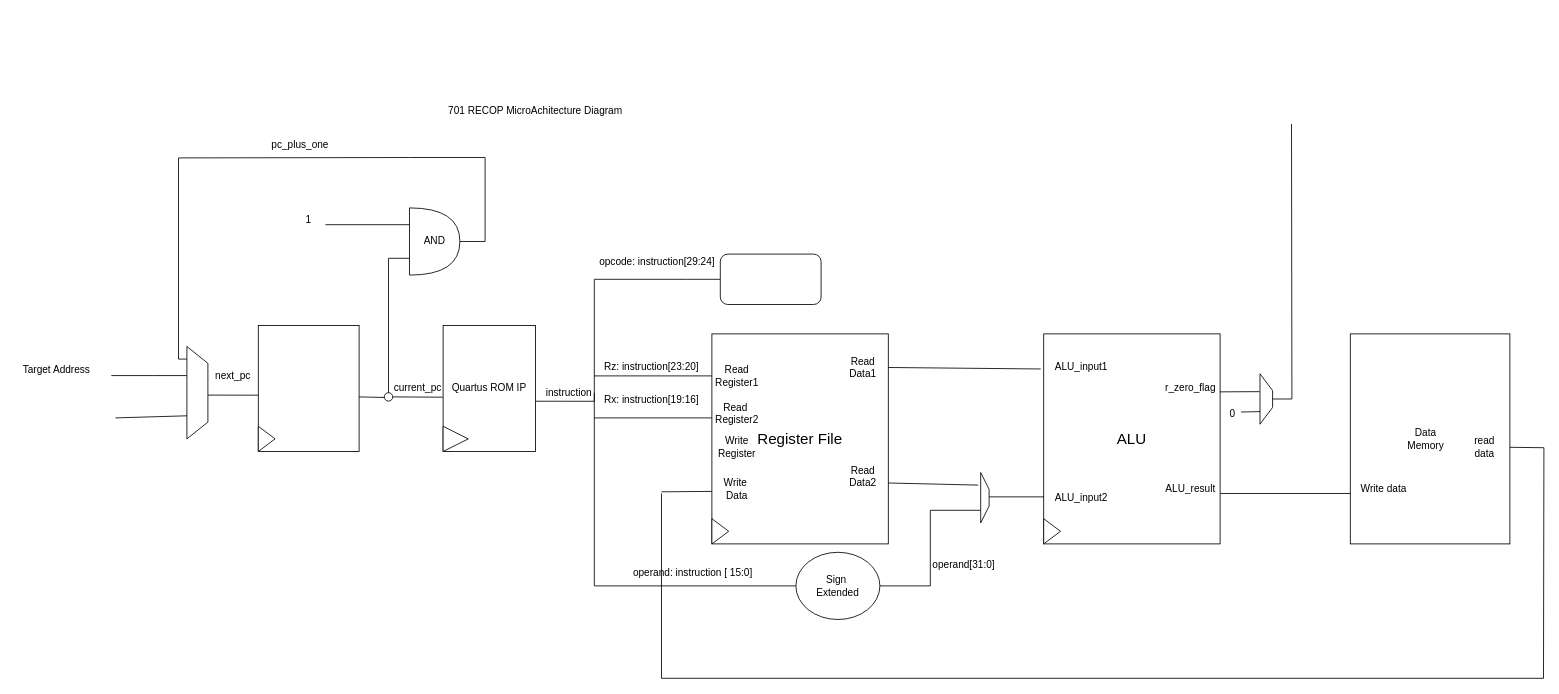
The diagram is 1559 pixels wide and 694 high, and some of its shapes have lost their labels. Here are the shapes that lost their labels. From the top down, the box of each, then its label:
(719, 253, 821, 304): Control Unit
(257, 325, 359, 452): PC
